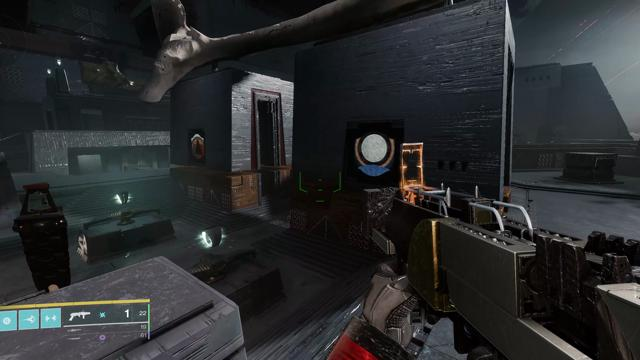pyramid: (191, 134, 205, 159)
traveler: (353, 130, 396, 177)
